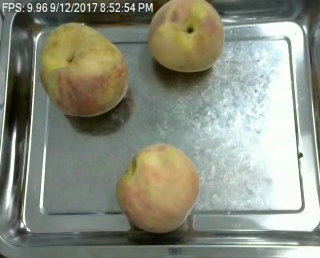Peach: (37, 20, 128, 116), (115, 142, 200, 233), (148, 0, 225, 72)
